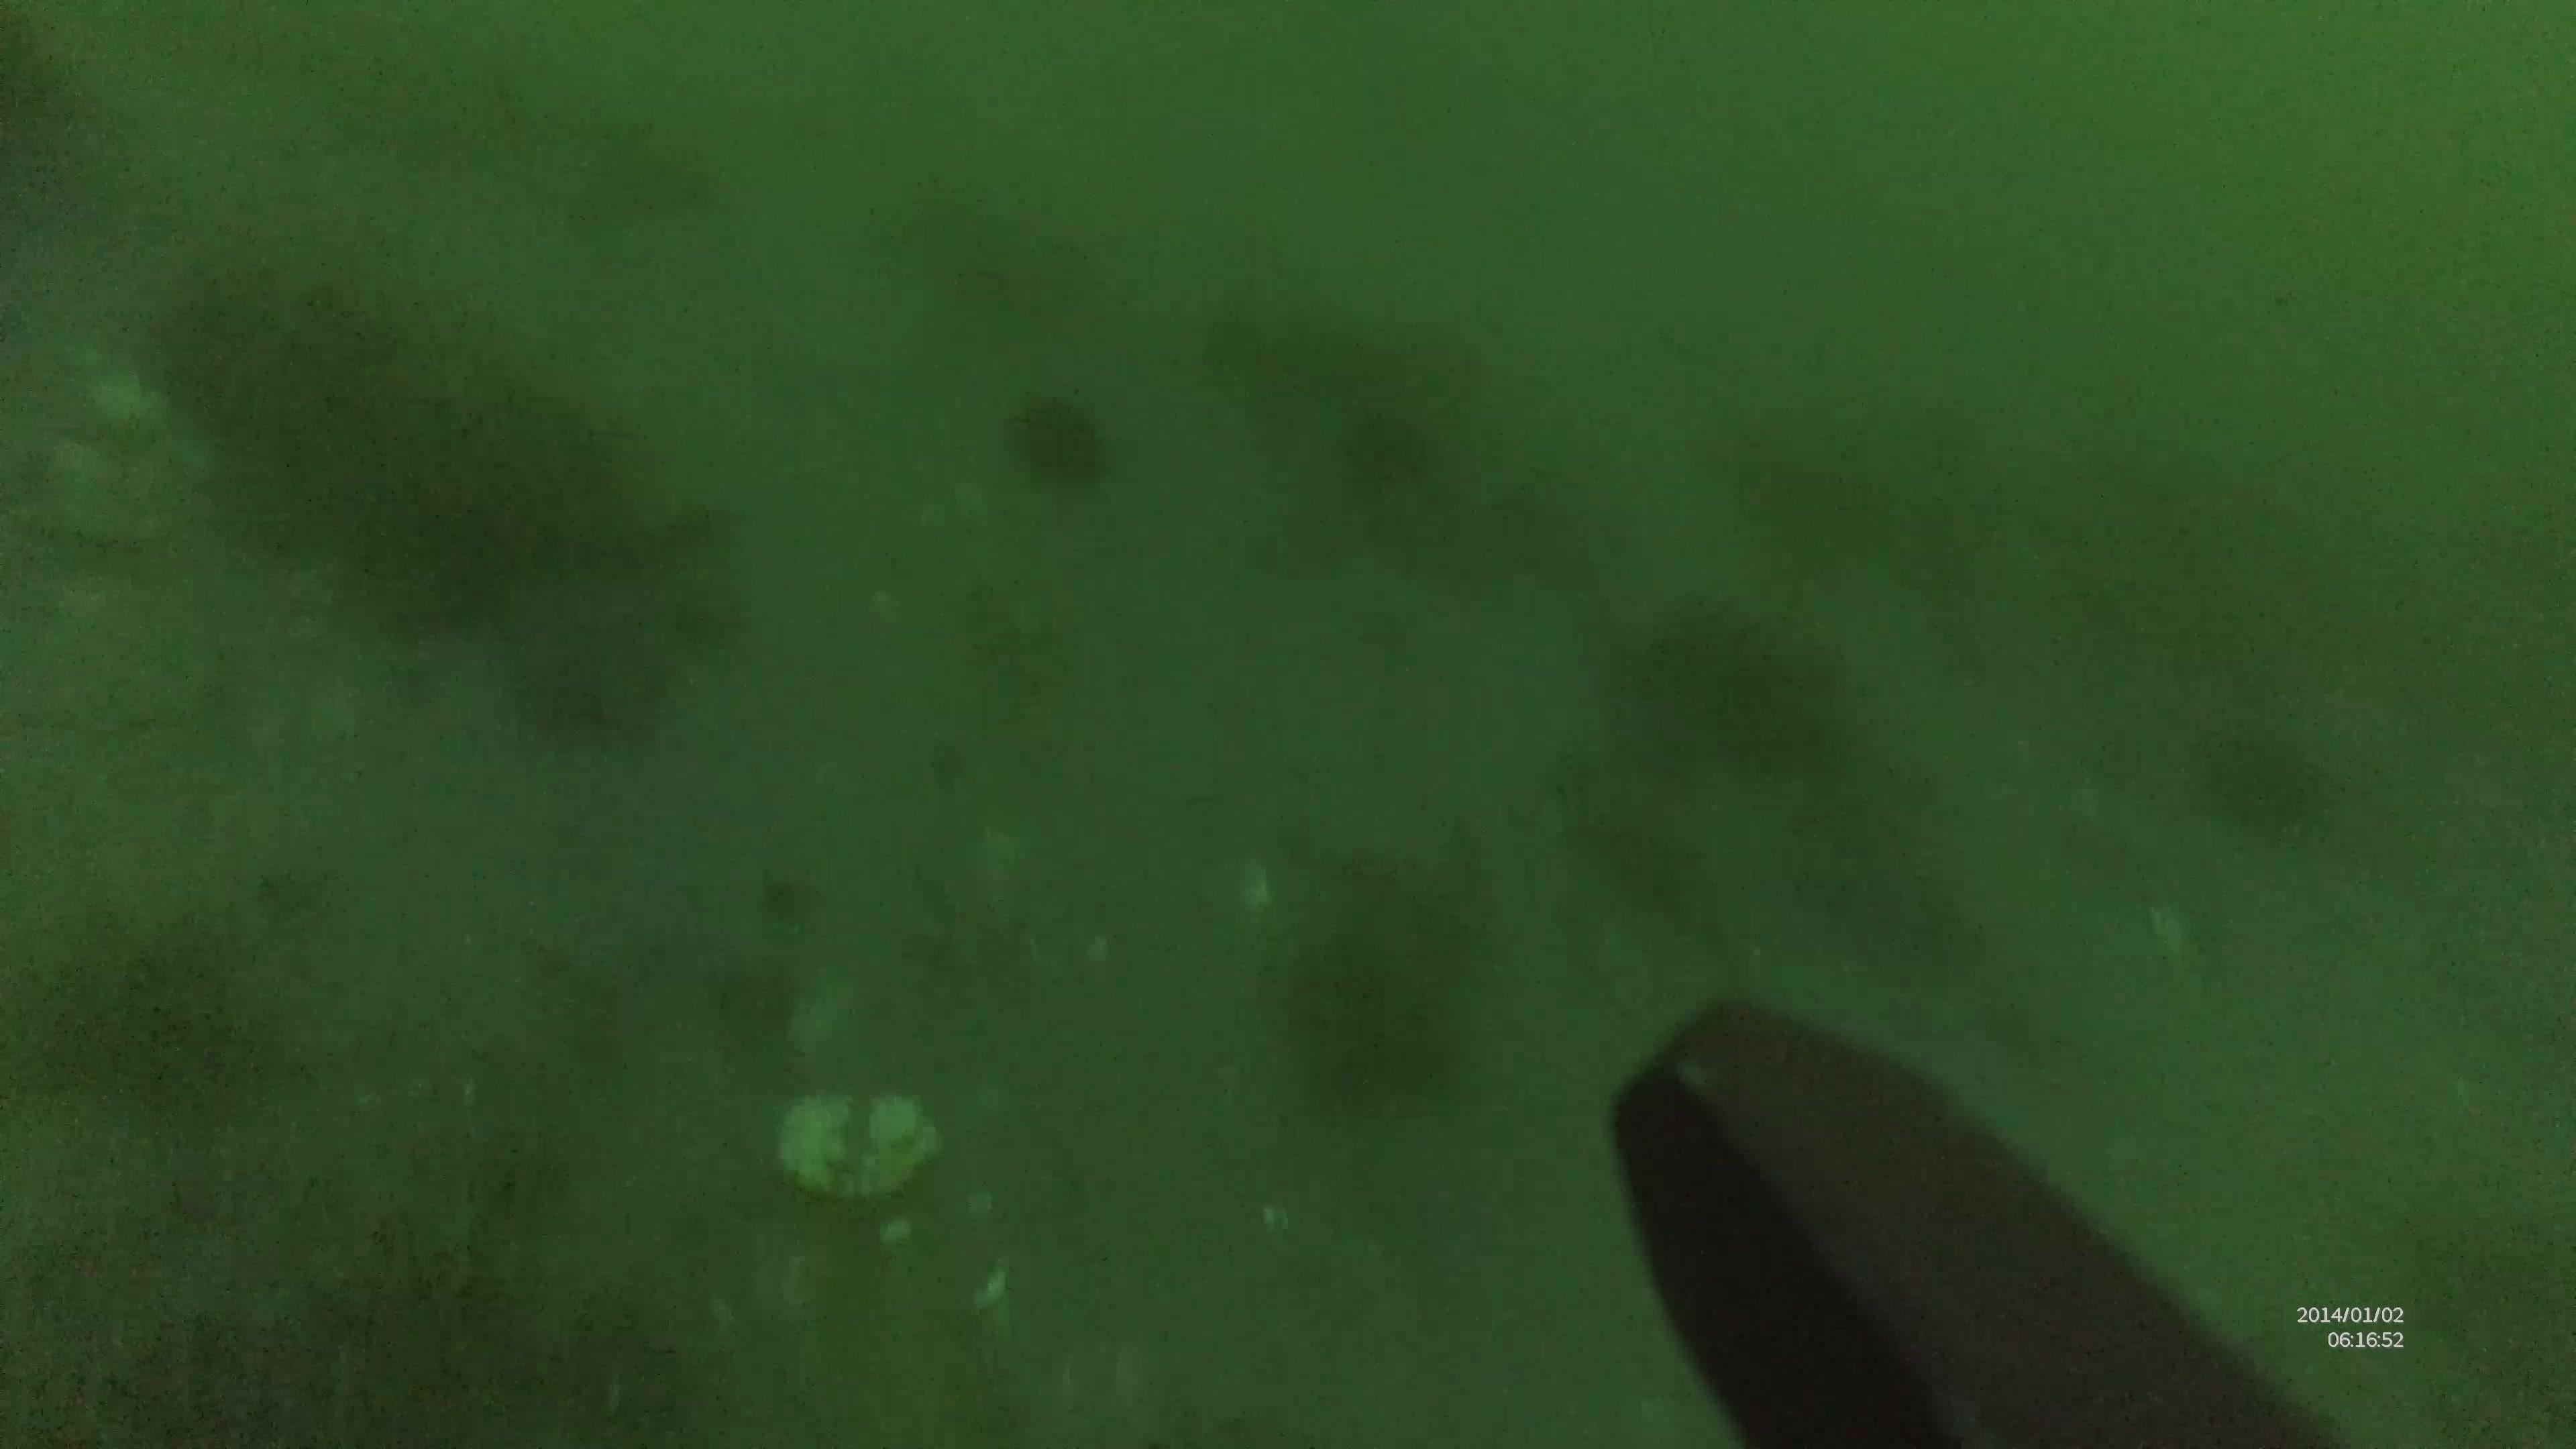echinus: (1014, 384, 1102, 492), (1345, 403, 1435, 490)
